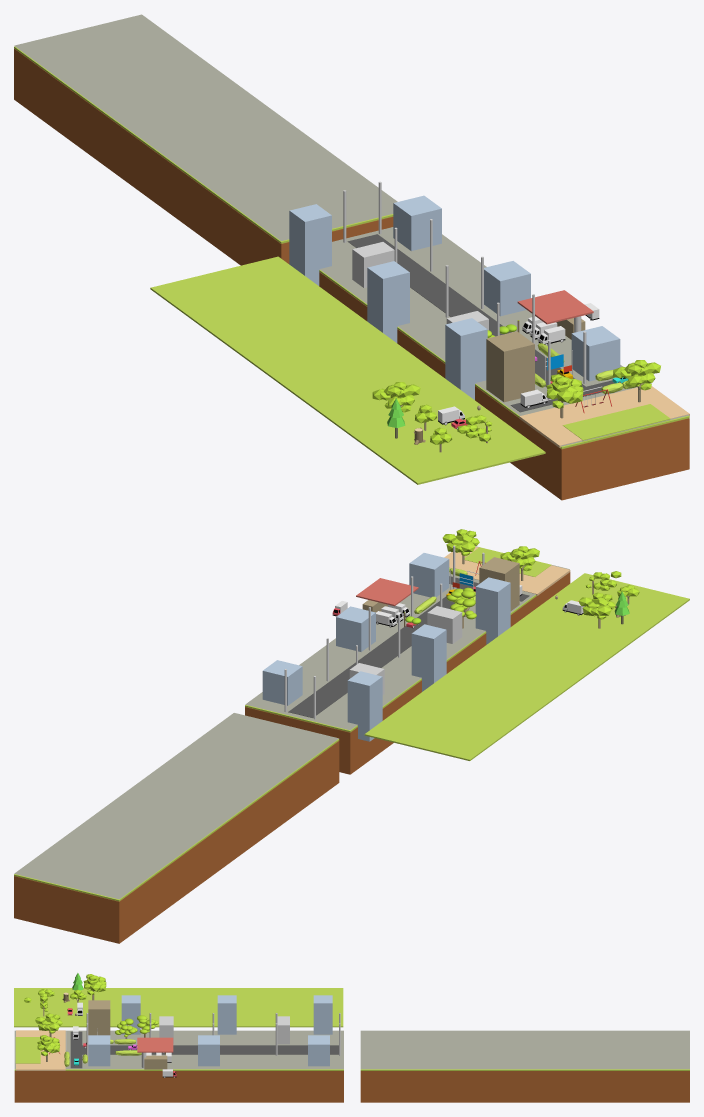
Rendered from thonk_spin_01.fbx.
The picture shows the model from 3 angles, top to bottom: view 1: azimuth 30°, elevation 25°; view 2: azimuth 150°, elevation 25°; view 3: azimuth 270°, elevation 25°; orthographic projection. The views are drawn at different scales.
Visible parts, largest first — view 1: Plane.013, Plane.017, Plane.012, Cube.011, Cube, Cube.010, Cube.001, Cube.004, Plane.009, Cube.002, Cylinder.052, Cube.005 (+5 smaller); view 2: Plane.013, Plane.017, Plane.012, Cube.011, Cube, Cube.004, Plane.009, Cube.010, Cube.005, Cube.001, Cylinder.052, Cube.008 (+3 smaller); view 3: Plane.012, Plane.013, Plane.017, Cube.011, Cube, Cube.004, Plane.009, Cube.010, Cube.001, Cube.005, Cube.002, Cube.008 (+8 smaller).
Part boxes in pixels (box(x1,y1,x2,y2)): Plane.013: box(14, 14, 689, 446); Plane.017: box(150, 256, 545, 484); Plane.012: box(14, 48, 689, 500); Cube.011: box(289, 204, 487, 399); Cube: box(393, 195, 620, 381); Cube.010: box(519, 386, 689, 447); Cube.001: box(486, 331, 534, 402); Cube.004: box(347, 234, 585, 387); Plane.009: box(14, 46, 689, 448); Cube.002: box(563, 404, 670, 441); Cylinder.052: box(343, 181, 586, 384); Cube.005: box(352, 242, 488, 330); Plane.013: box(14, 546, 569, 899); Plane.017: box(364, 573, 689, 760); Plane.012: box(14, 572, 570, 943); Cube.011: box(347, 577, 510, 741); Cube: box(262, 553, 449, 705); Cube.004: box(288, 586, 465, 717); Plane.009: box(14, 595, 536, 901); Cube.010: box(444, 547, 570, 595); Cube.005: box(349, 606, 462, 694); Cube.001: box(479, 557, 519, 610); Cylinder.052: box(284, 545, 484, 719); Cube.008: box(356, 578, 418, 606); Plane.012: box(14, 1071, 689, 1102); Plane.013: box(14, 1030, 689, 1069); Plane.017: box(14, 988, 343, 1027); Cube.011: box(121, 995, 332, 1034); Cube: box(88, 1035, 329, 1066); Cube.004: box(81, 1045, 338, 1054); Plane.009: box(14, 1069, 689, 1070); Cube.010: box(16, 1030, 65, 1070); Cube.001: box(88, 1000, 110, 1035); Cube.005: box(159, 1016, 289, 1044); Cube.002: box(15, 1037, 40, 1063); Cube.008: box(137, 1037, 173, 1052).
Size of the model in its own units: 7658 by 2548 by 24053.
